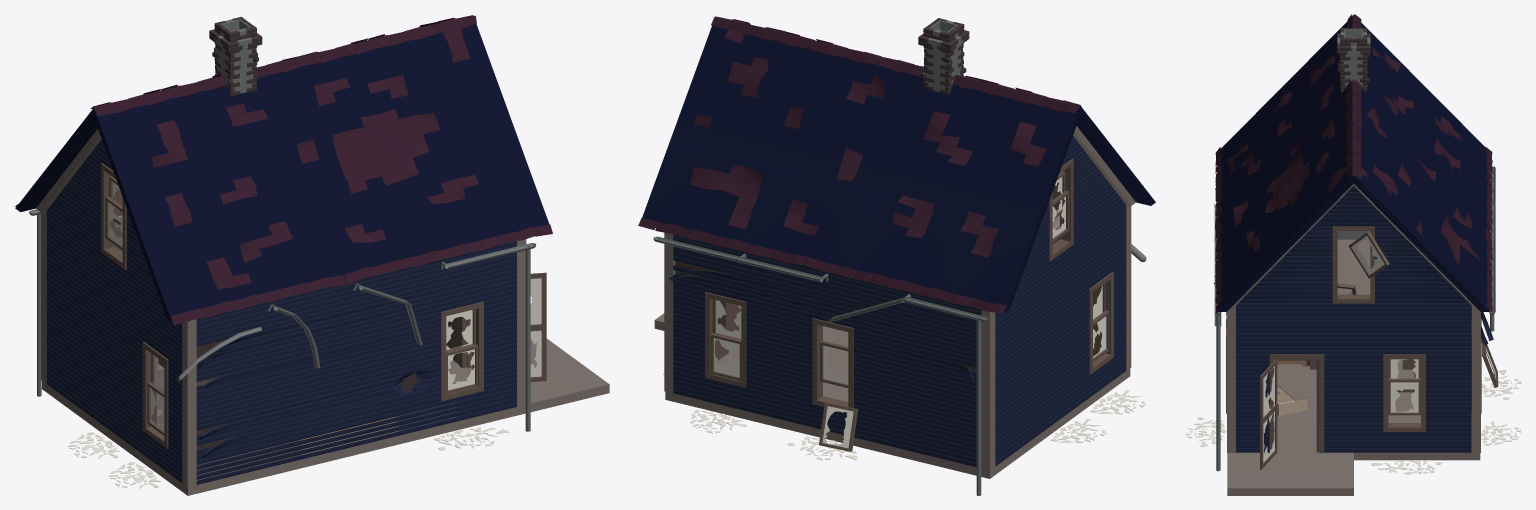
The model's file is HHM.fbx.
3 renders of one model, left to right at view 1: azimuth 30°, elevation 25°; view 2: azimuth 150°, elevation 25°; view 3: azimuth 270°, elevation 25°, orthographic. The views are drawn at different scales.
Visible parts, largest first — view 1: HouseMain, Roof, Misc, Drain, ChimneyBricks, Bricks; view 2: HouseMain, Roof, Misc, Drain, ChimneyBricks; view 3: HouseMain, Misc, Roof, Drain, ChimneyBricks, Closet.
Boxes of the visible parts, x1,y1,x2,y2 form: HouseMain: [15, 19, 609, 495]; Roof: [15, 15, 552, 325]; Misc: [67, 163, 546, 488]; Drain: [29, 209, 536, 431]; ChimneyBricks: [209, 16, 262, 96]; Bricks: [196, 336, 420, 450]; HouseMain: [642, 20, 1155, 478]; Roof: [638, 16, 1081, 313]; Misc: [663, 158, 1146, 460]; Drain: [653, 236, 1146, 495]; ChimneyBricks: [918, 18, 969, 94]; HouseMain: [1214, 21, 1493, 495]; Misc: [1185, 226, 1521, 474]; Roof: [1215, 14, 1492, 313]; Drain: [1214, 166, 1495, 471]; ChimneyBricks: [1337, 28, 1370, 92]; Closet: [1277, 381, 1307, 416].
Size of the model in its own units: 1103 by 907 by 798.
